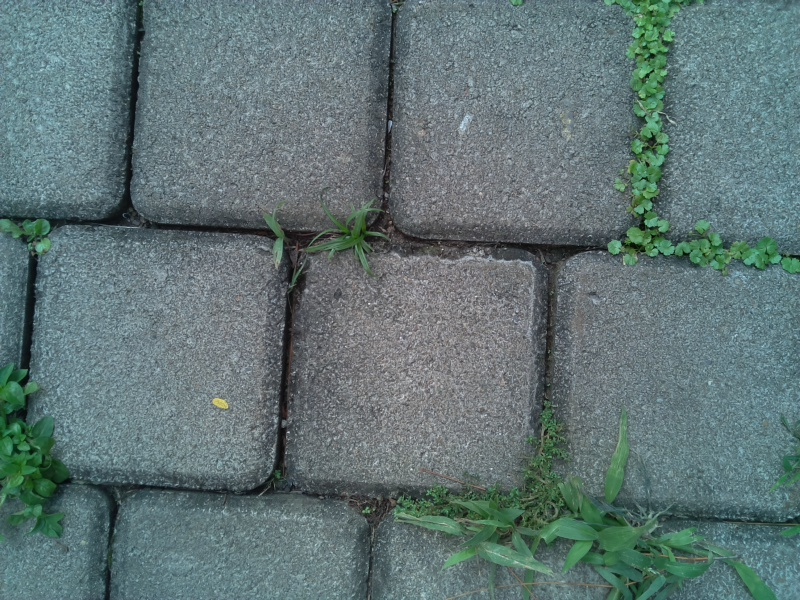Weed: (572, 471, 732, 596), (1, 361, 79, 543), (384, 480, 520, 571), (623, 2, 683, 145), (614, 148, 683, 266), (687, 218, 800, 284), (514, 412, 570, 525), (309, 196, 391, 269), (1, 207, 61, 262), (254, 206, 303, 273)
